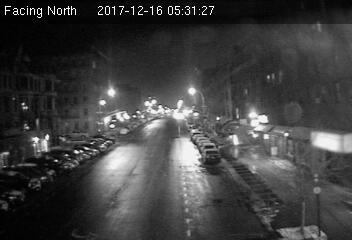car: (202, 149, 221, 163)
